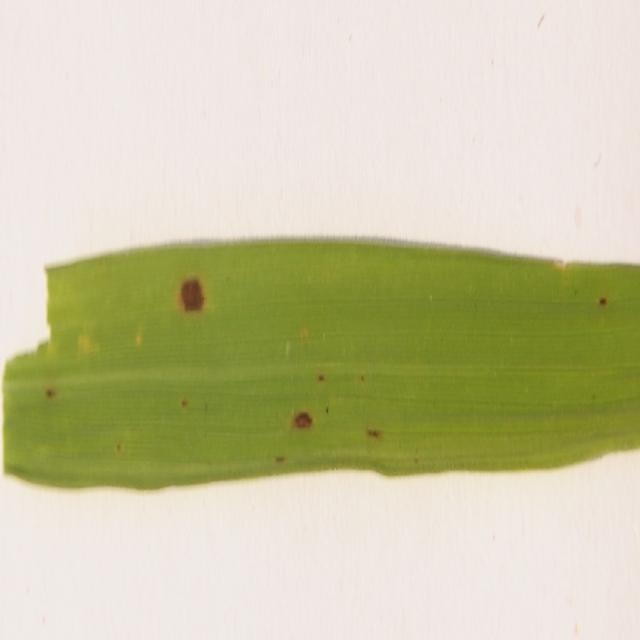Unhealthy: (176, 272, 207, 319), (288, 406, 317, 433), (365, 424, 381, 441), (45, 386, 57, 400), (598, 294, 608, 308), (115, 440, 122, 455), (180, 398, 188, 410), (317, 373, 325, 384), (275, 455, 284, 463), (302, 330, 307, 344), (361, 373, 365, 383), (326, 407, 328, 415)
